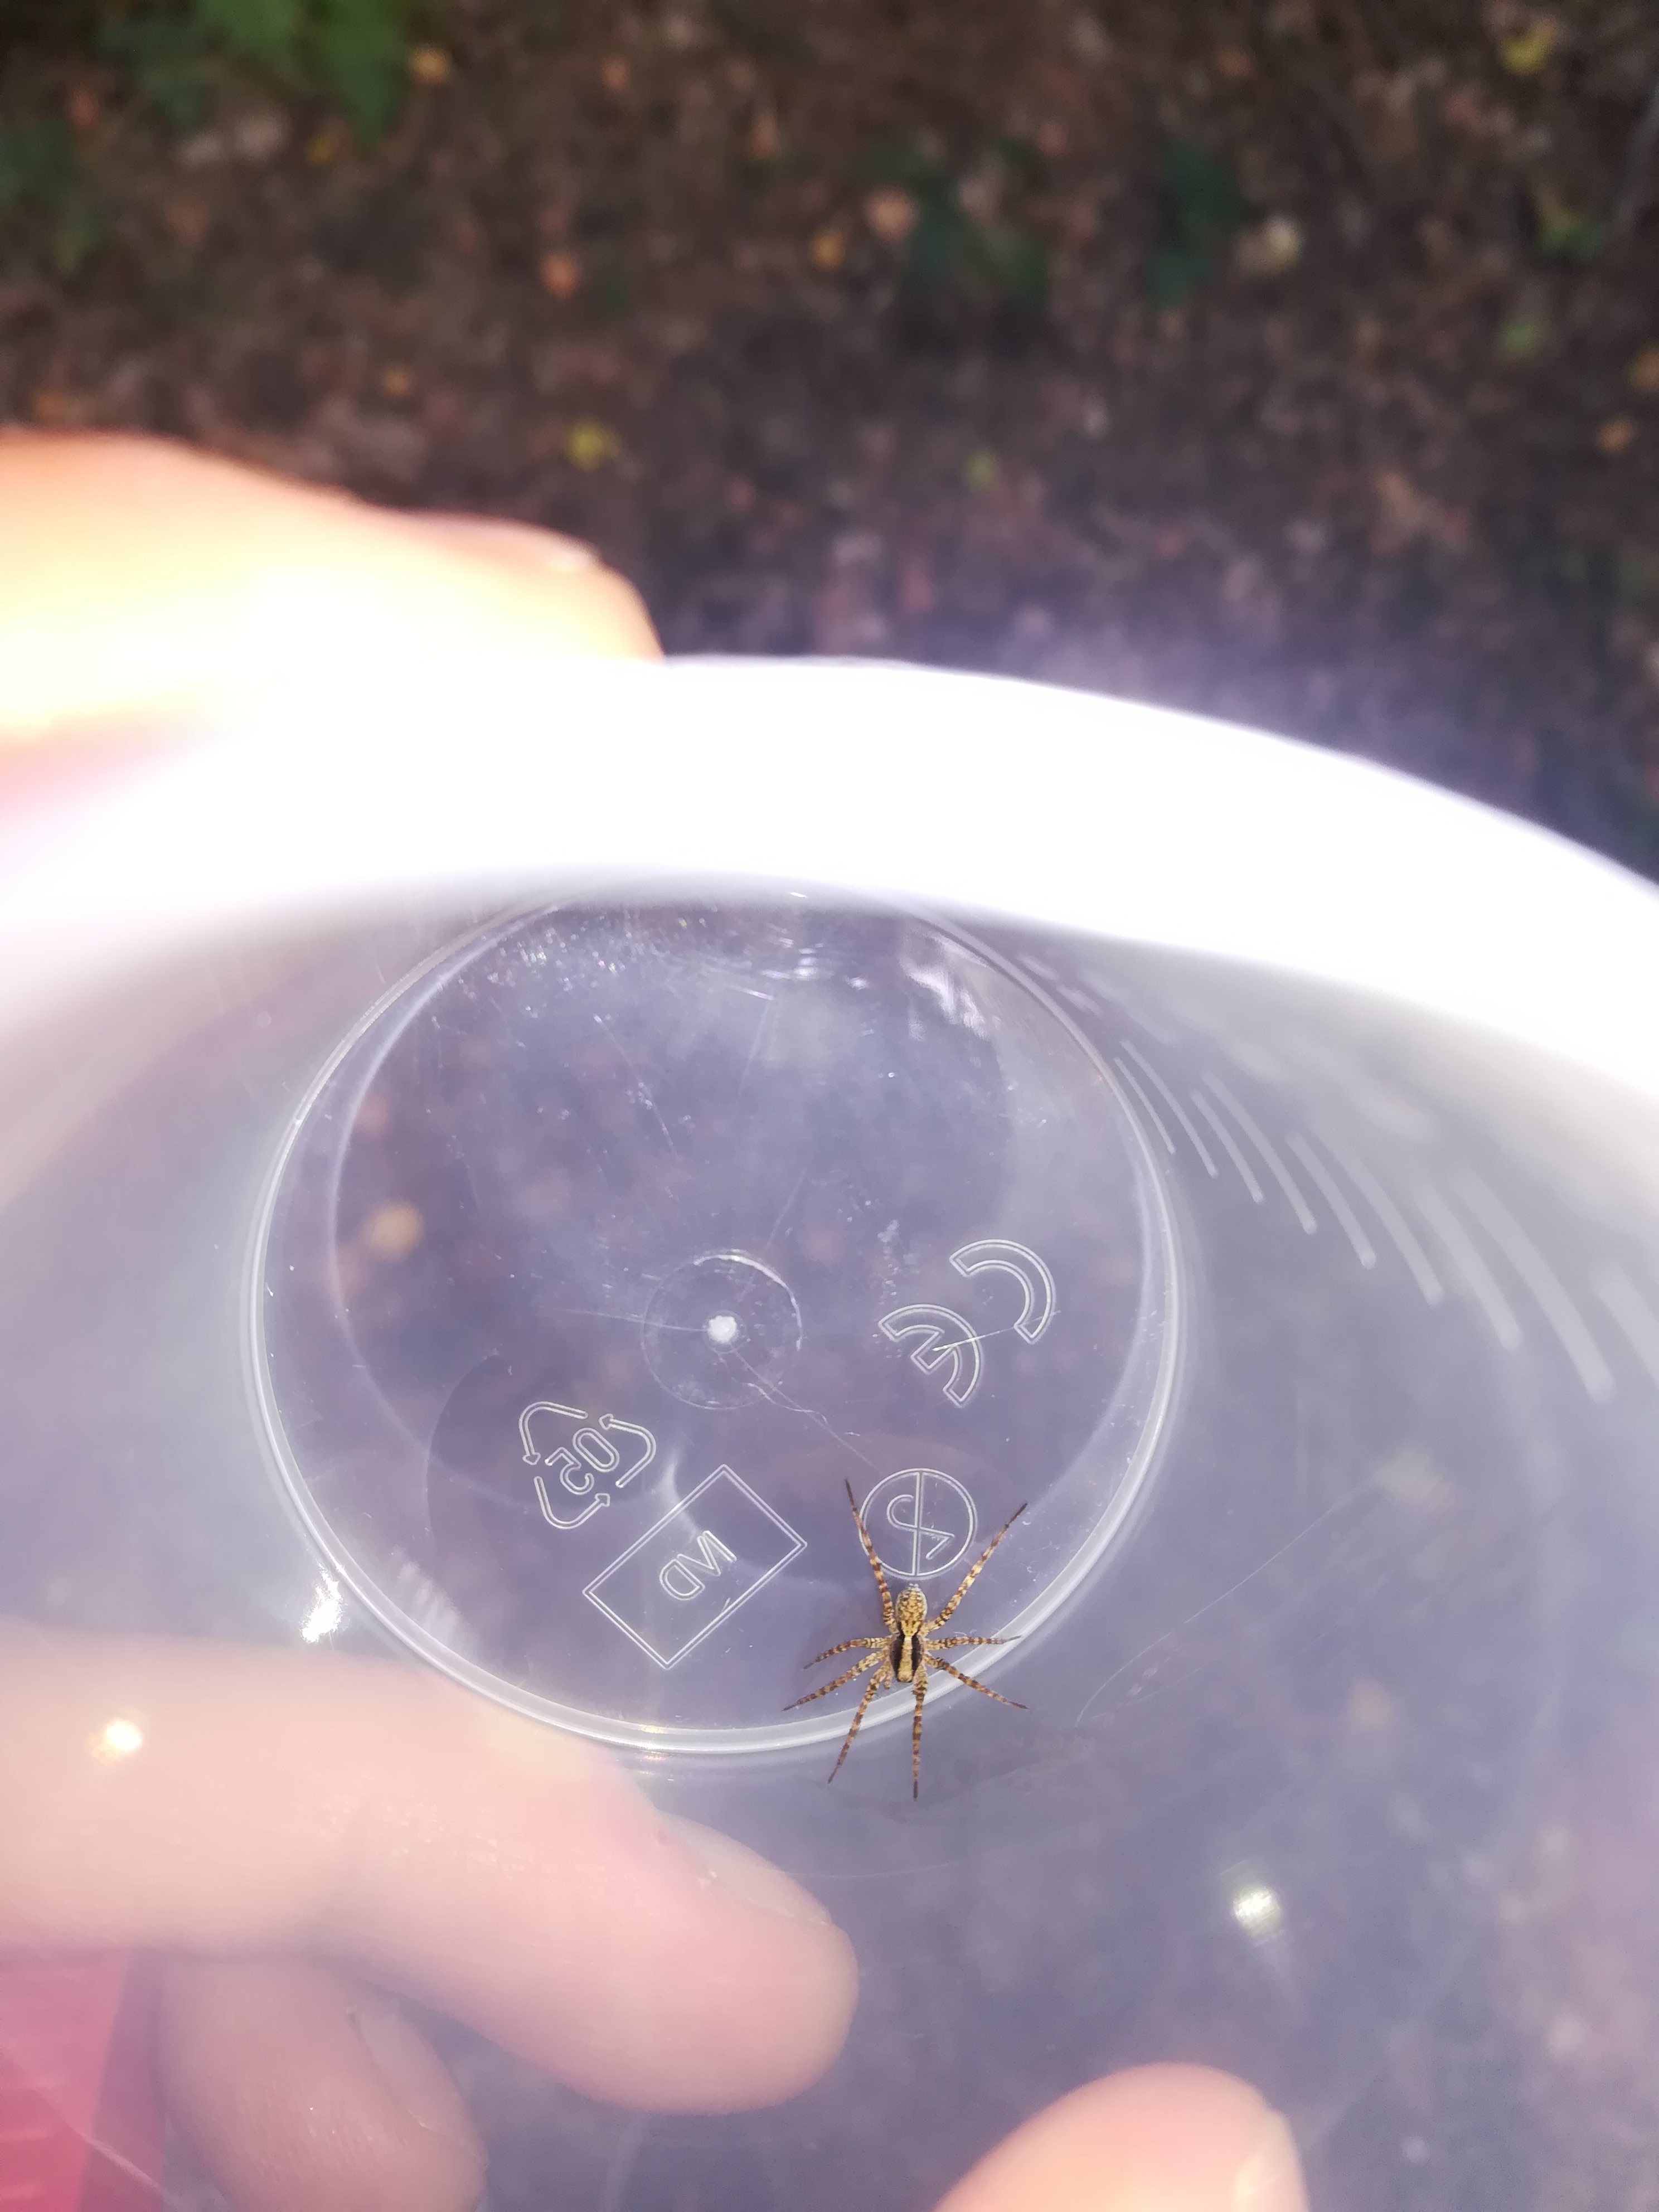spider: (746, 1463, 1073, 1827)
